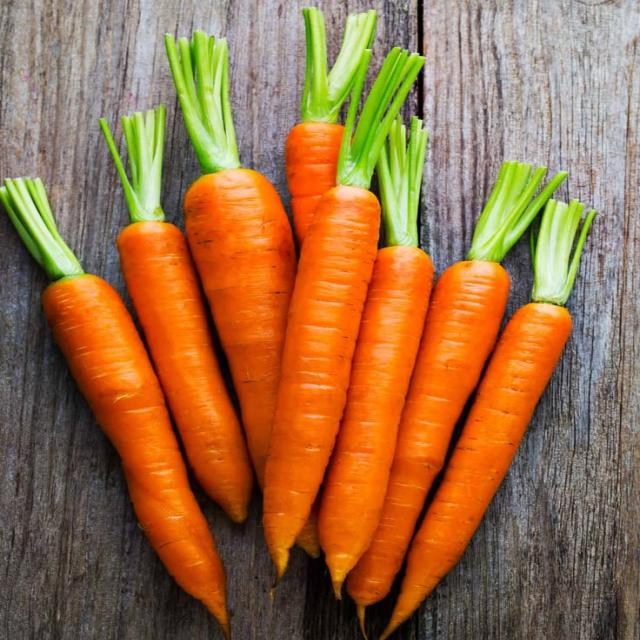carrot: (0, 179, 230, 638), (347, 162, 566, 621), (380, 201, 594, 639), (263, 49, 423, 579), (100, 106, 253, 522), (166, 32, 295, 485), (319, 118, 433, 597), (286, 8, 376, 245), (296, 489, 321, 559)
